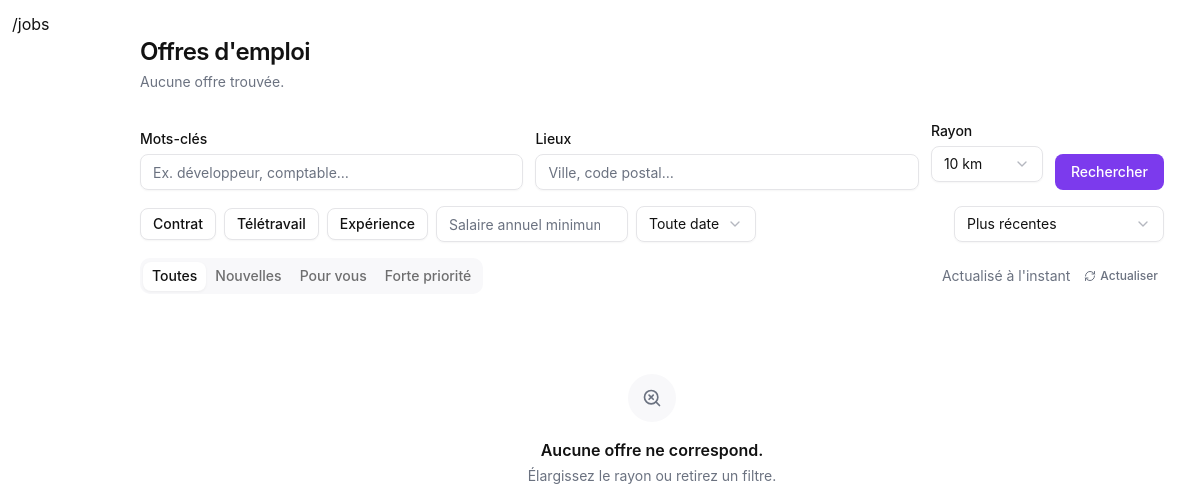
Test: JobsPage › active les onglets/tris et met a jour l_URL (onglet=pour-vous, tri=match)
Click the tab "Pour vous".
click(333, 276)  # box top-left (291, 262), bottom-right (376, 290)
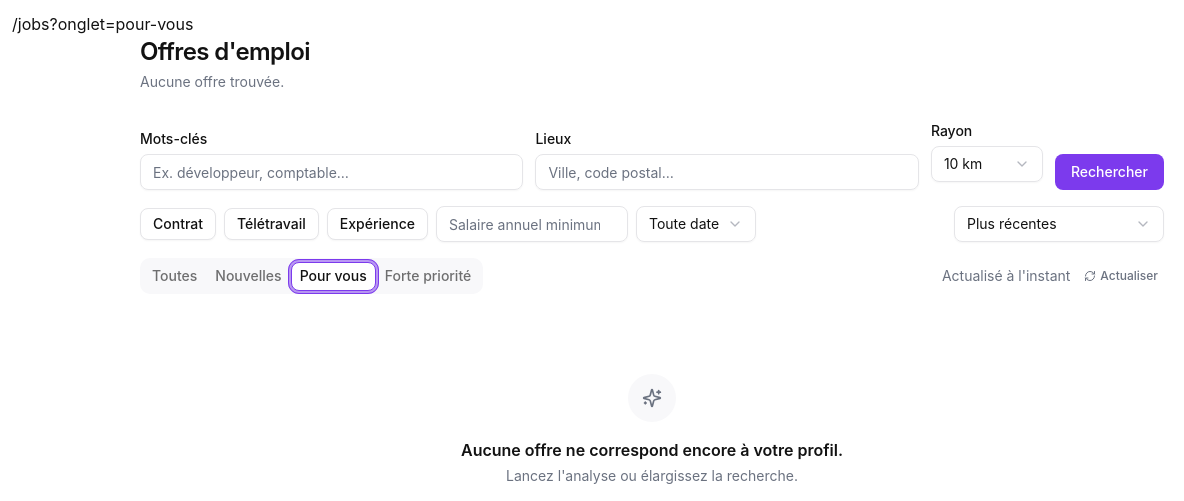
Result: the text with test id "location" shows "onglet=pour-vous" at top-left (12, 14), bottom-right (193, 34)
Click the dropdown named "Trier par".
click(1059, 224)  # box top-left (954, 206), bottom-right (1164, 242)
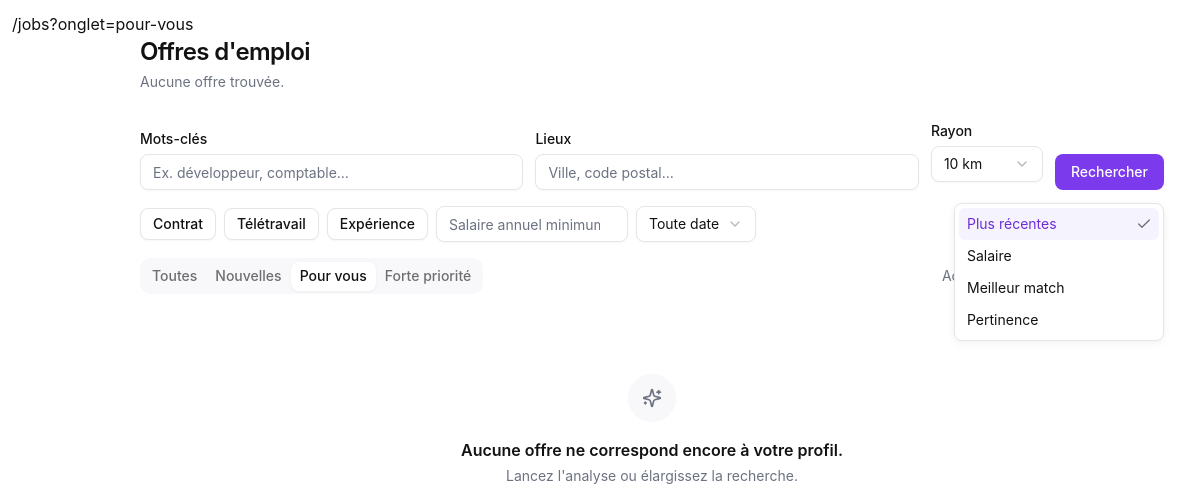
Click the option "Meilleur match".
click(1016, 288)  # box top-left (967, 279), bottom-right (1064, 296)
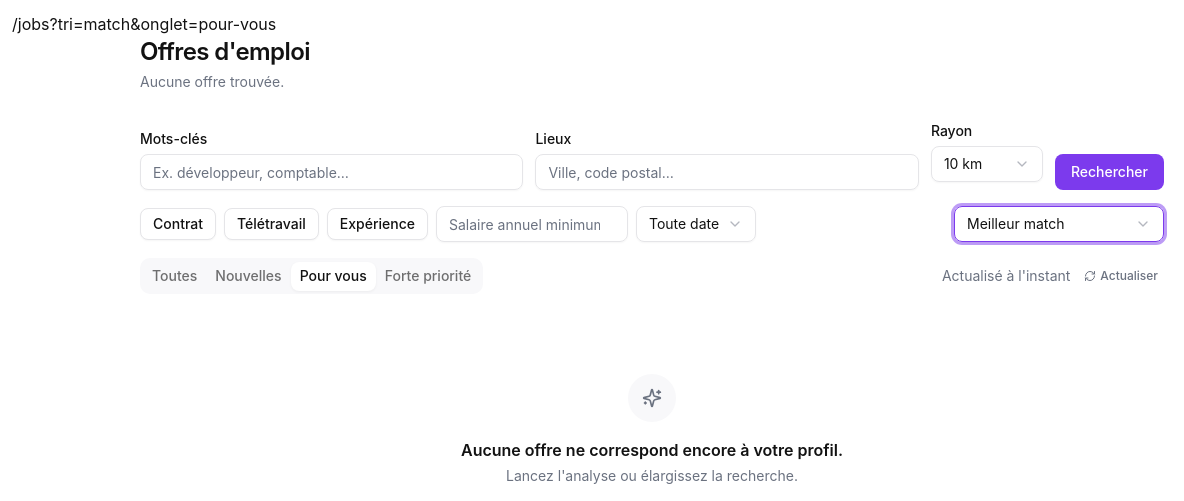
Result: the text with test id "location" shows "tri=match" at top-left (12, 14), bottom-right (276, 34)
